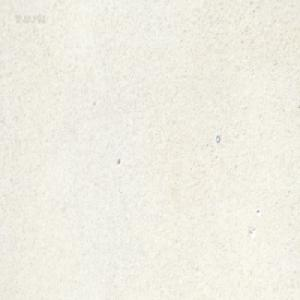Washer: (215, 133, 220, 143)
